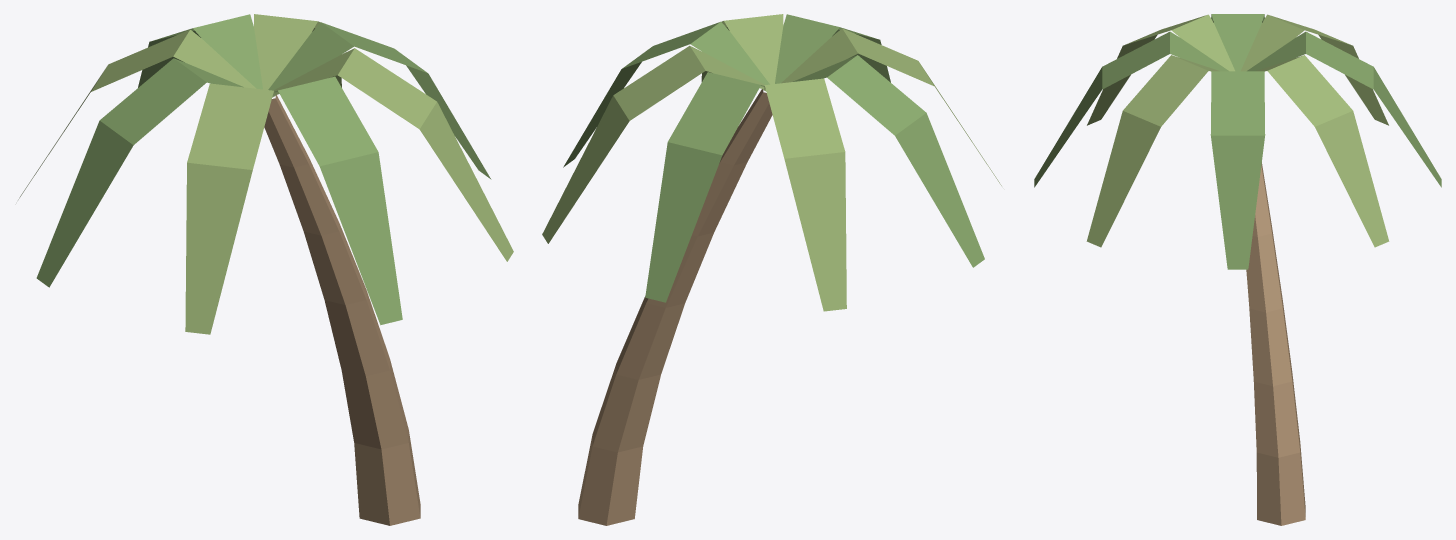
3 renders of one model, left to right at view 1: azimuth 30°, elevation 25°; view 2: azimuth 150°, elevation 25°; view 3: azimuth 270°, elevation 25°, orthographic. The views are drawn at different scales.
Parts seen in each view (by area): view 1: Body; view 2: Body; view 3: Body.
Boxes of the visible parts, x1,y1,x2,y2 form: Body: [18, 14, 513, 525]; Body: [542, 14, 1001, 525]; Body: [1034, 14, 1441, 525].
Bounding box in the file's own units: 4.5 × 5.02 × 4.5.
